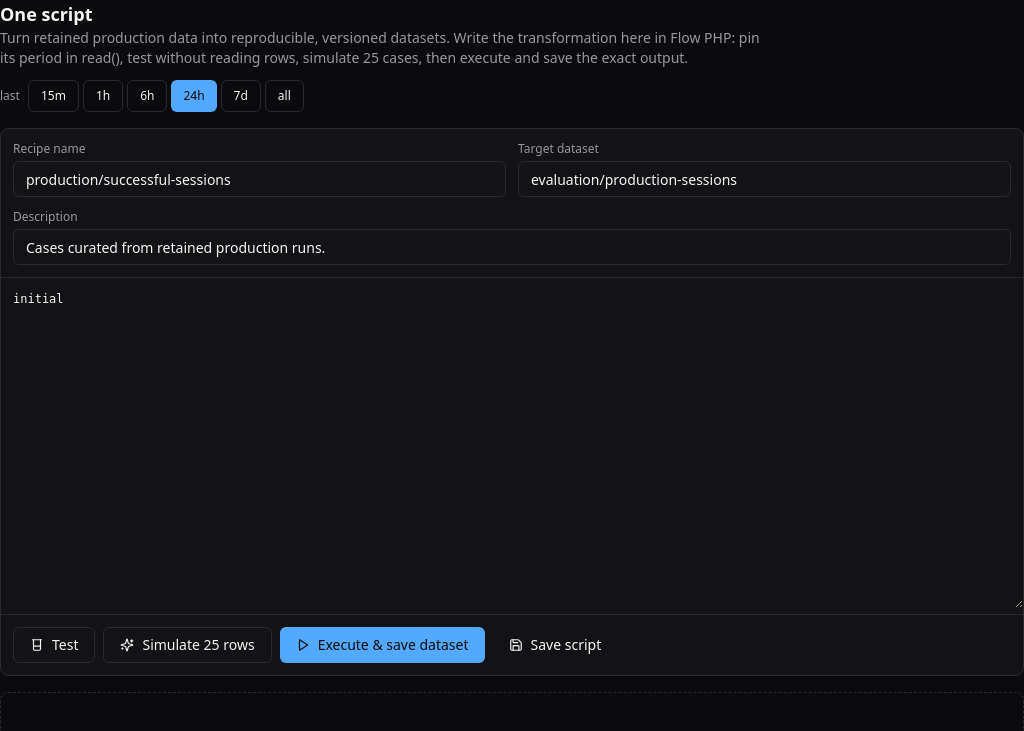
Scenario: keeps failed saves dirty and protects the target dataset as part of the draft
Replace the text in the field labelled "Target dataset" with "new target" at (764, 179), box [518,161,1011,197]
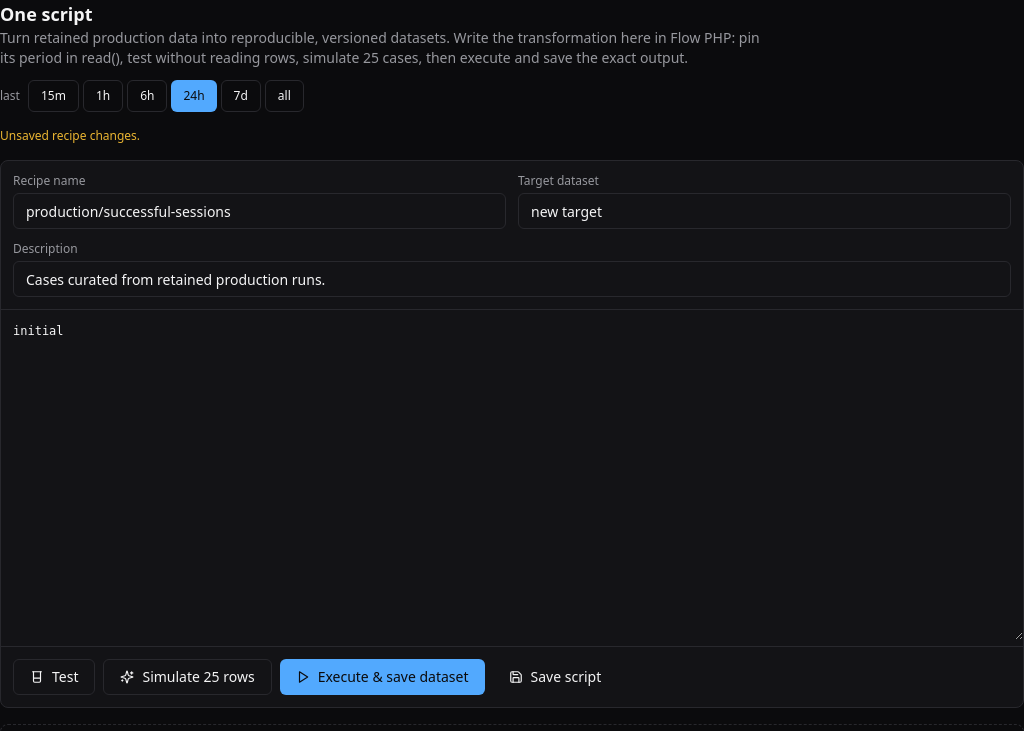
Click the button "Save script".
click(555, 677)  # box [492,659,617,695]
(page scrolled)
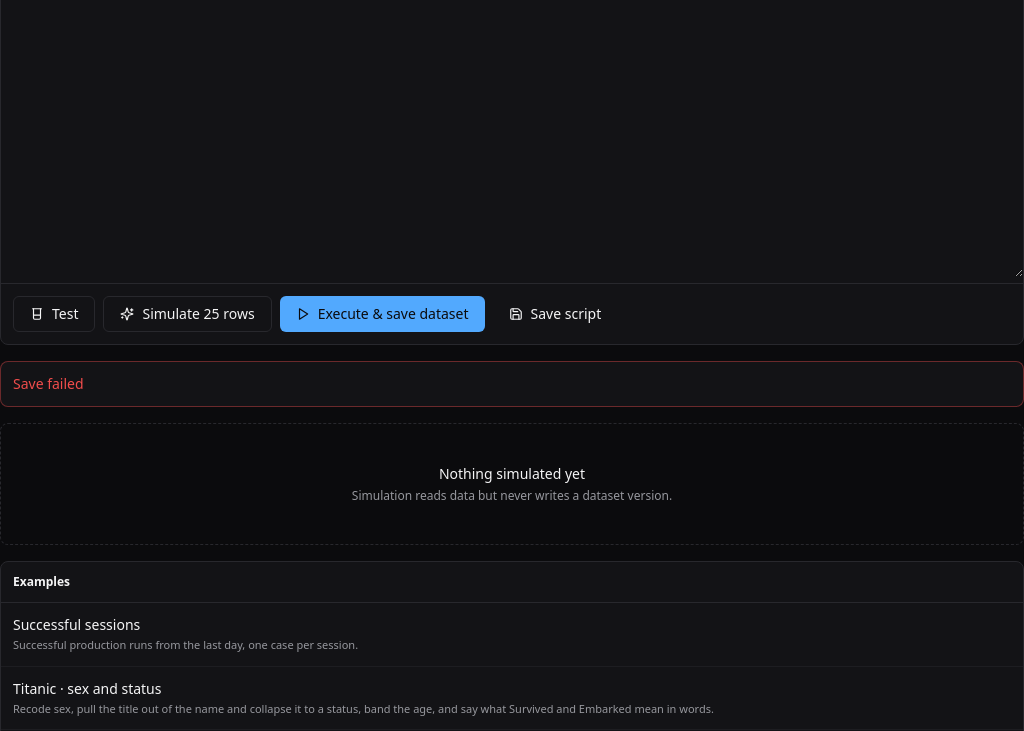
Expected: the text "Save failed" is shown, [0,361,1023,407]
